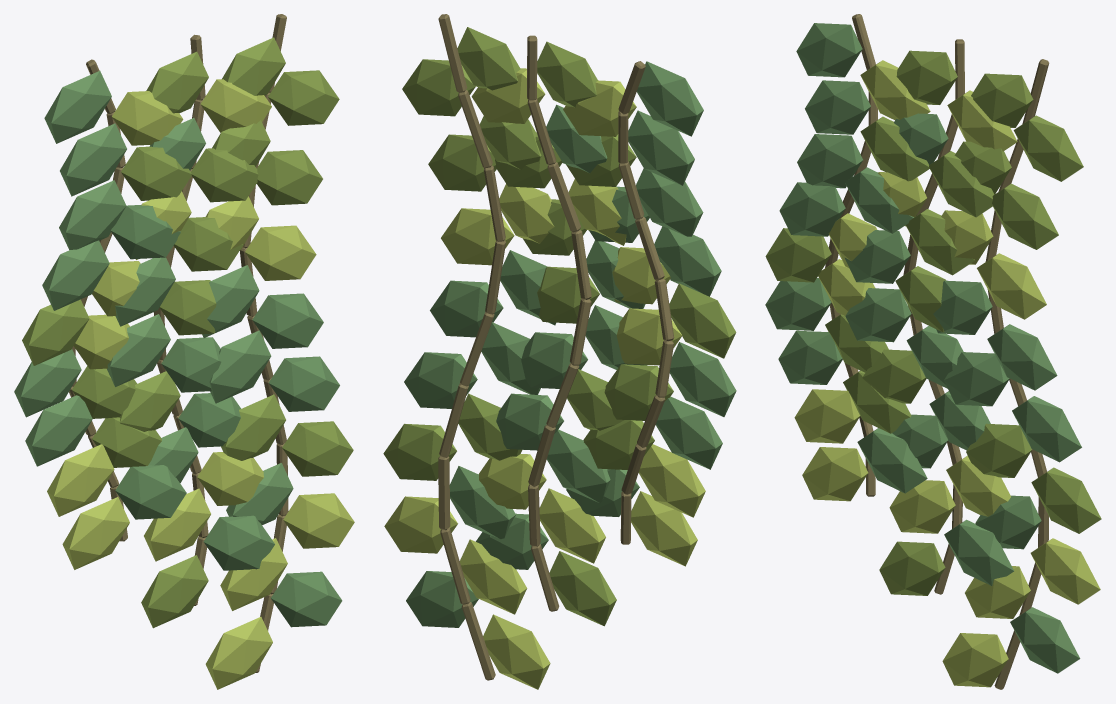
Rendered from vines_1.glb.
3 renders of one model, left to right at view 1: azimuth 30°, elevation 25°; view 2: azimuth 150°, elevation 25°; view 3: azimuth 330°, elevation 25°, orthographic. The views are drawn at different scales.
Visible parts, largest first — view 1: vines_1; view 2: vines_1; view 3: vines_1.
Boxes of the visible parts, box(x1,y1,x2,y2) form: vines_1: box(14, 14, 354, 689); vines_1: box(383, 14, 736, 689); vines_1: box(765, 14, 1101, 689).
Size of the model in its own units: 1.04 by 1.9 by 0.1287.
